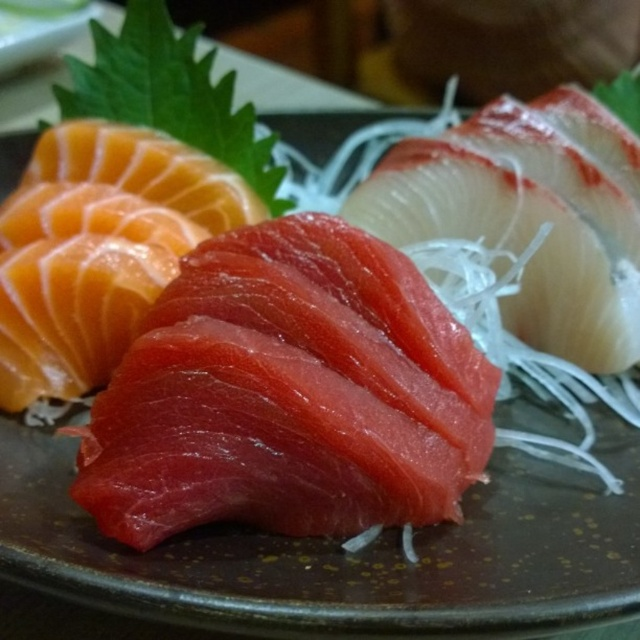Fish: (1, 83, 639, 554)
